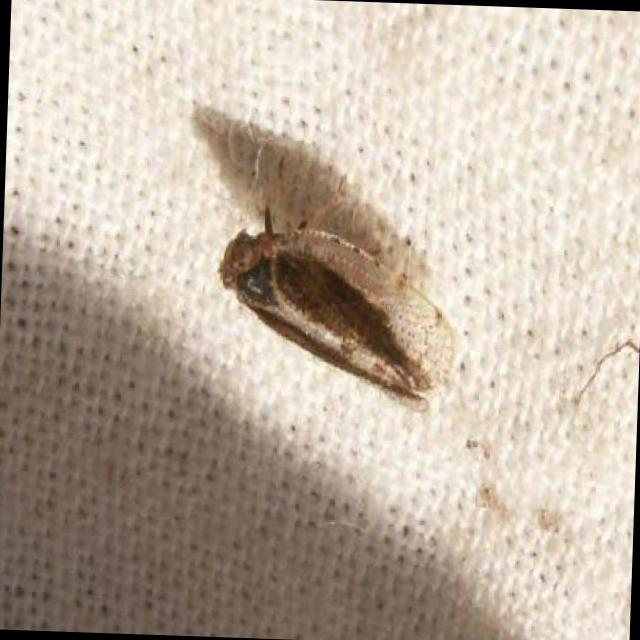brown-planthopper: (208, 208, 462, 400)
